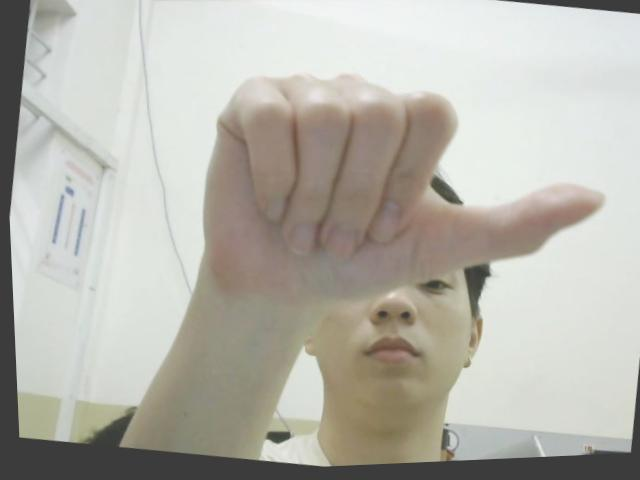A: (179, 46, 623, 353)
